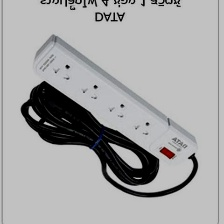three_eye_plug: (32, 32, 199, 167)
